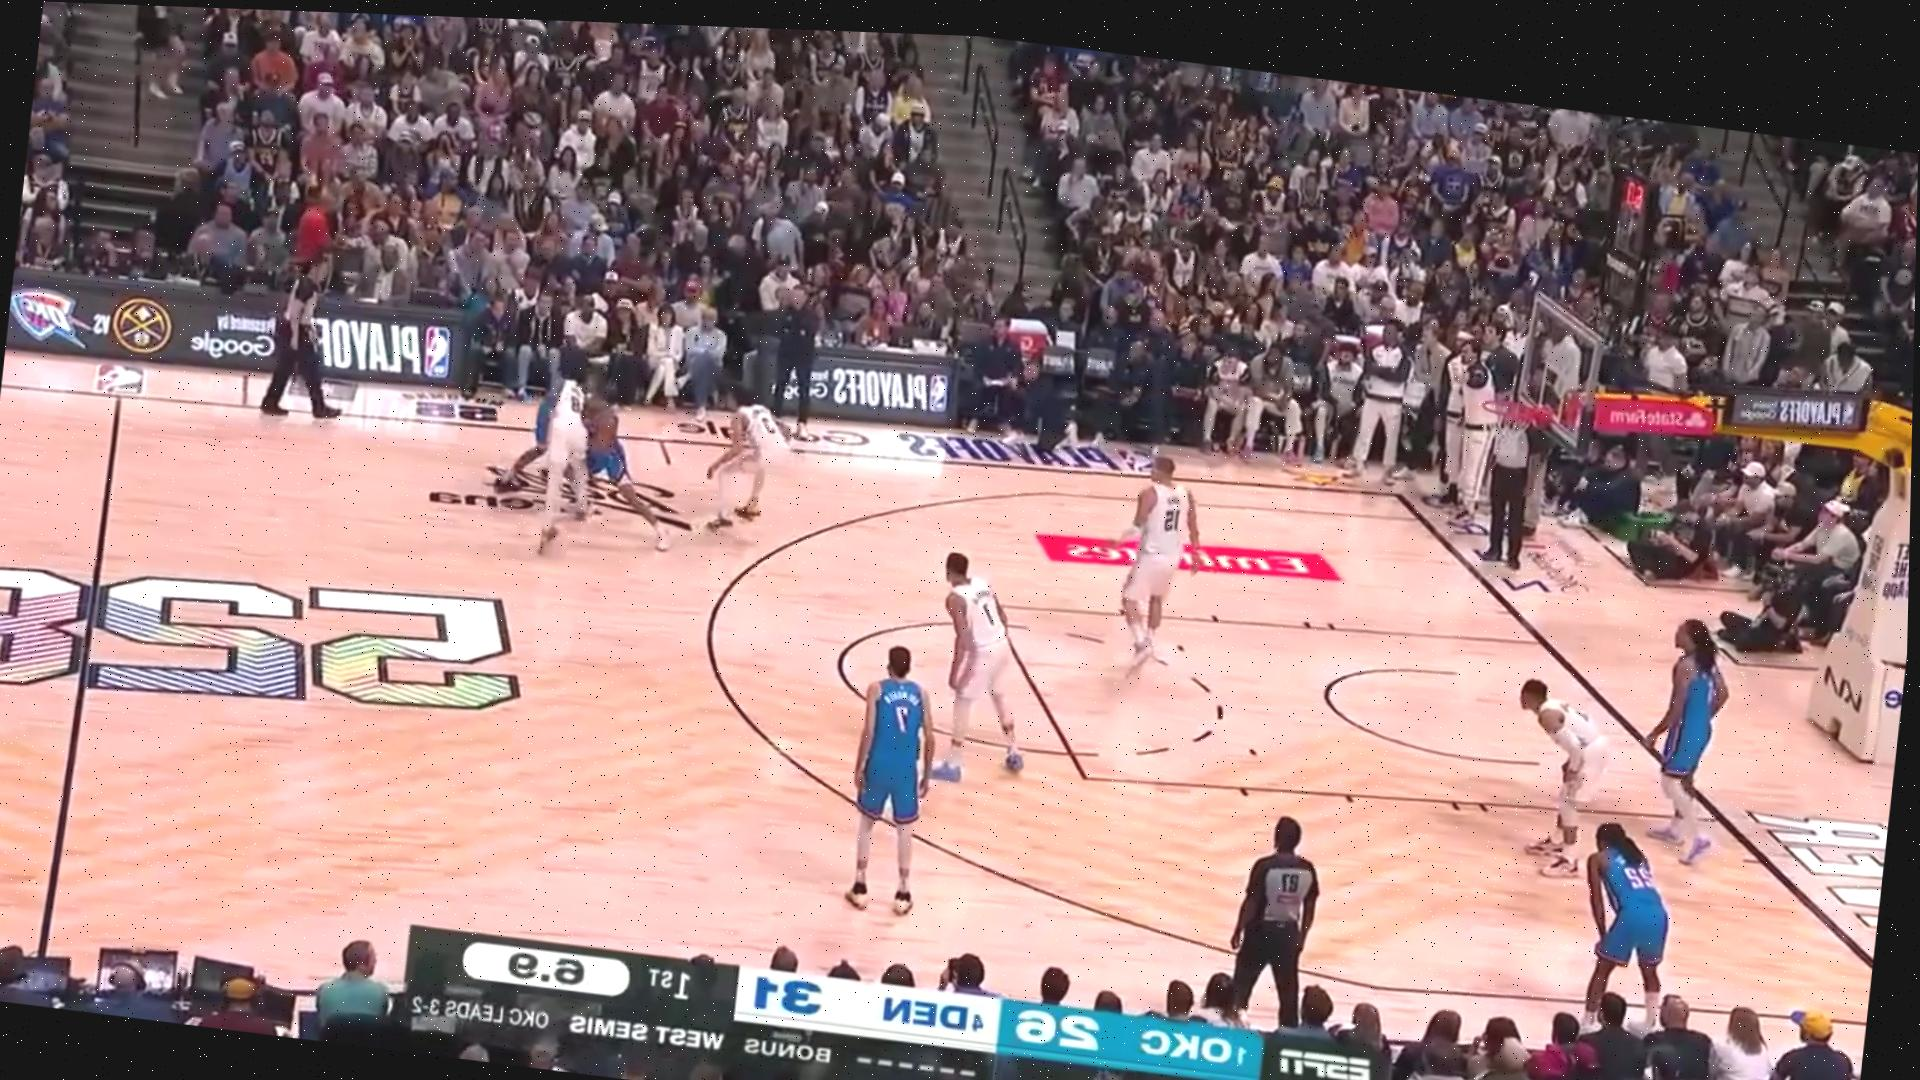foul: (488, 342, 666, 566)
